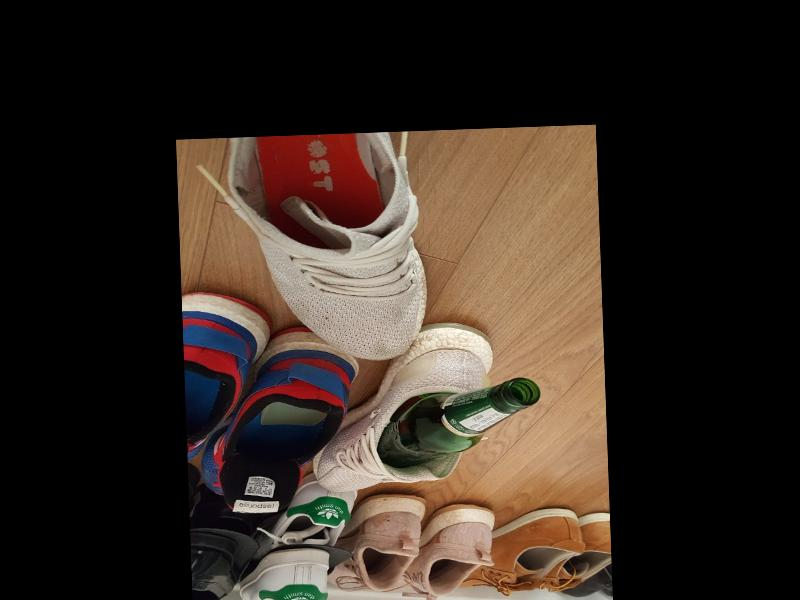Beer: (373, 377, 542, 471)
